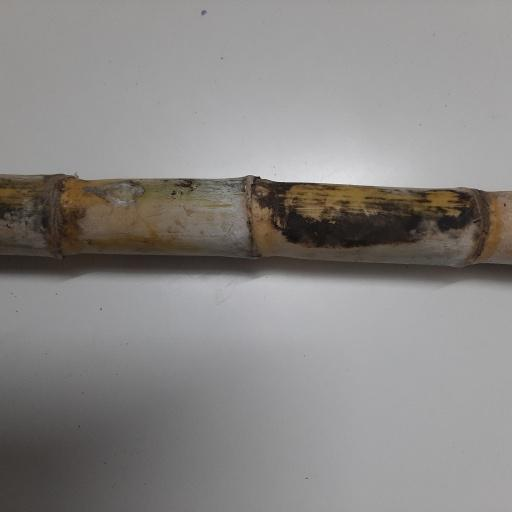Bud: (253, 184, 273, 200)
